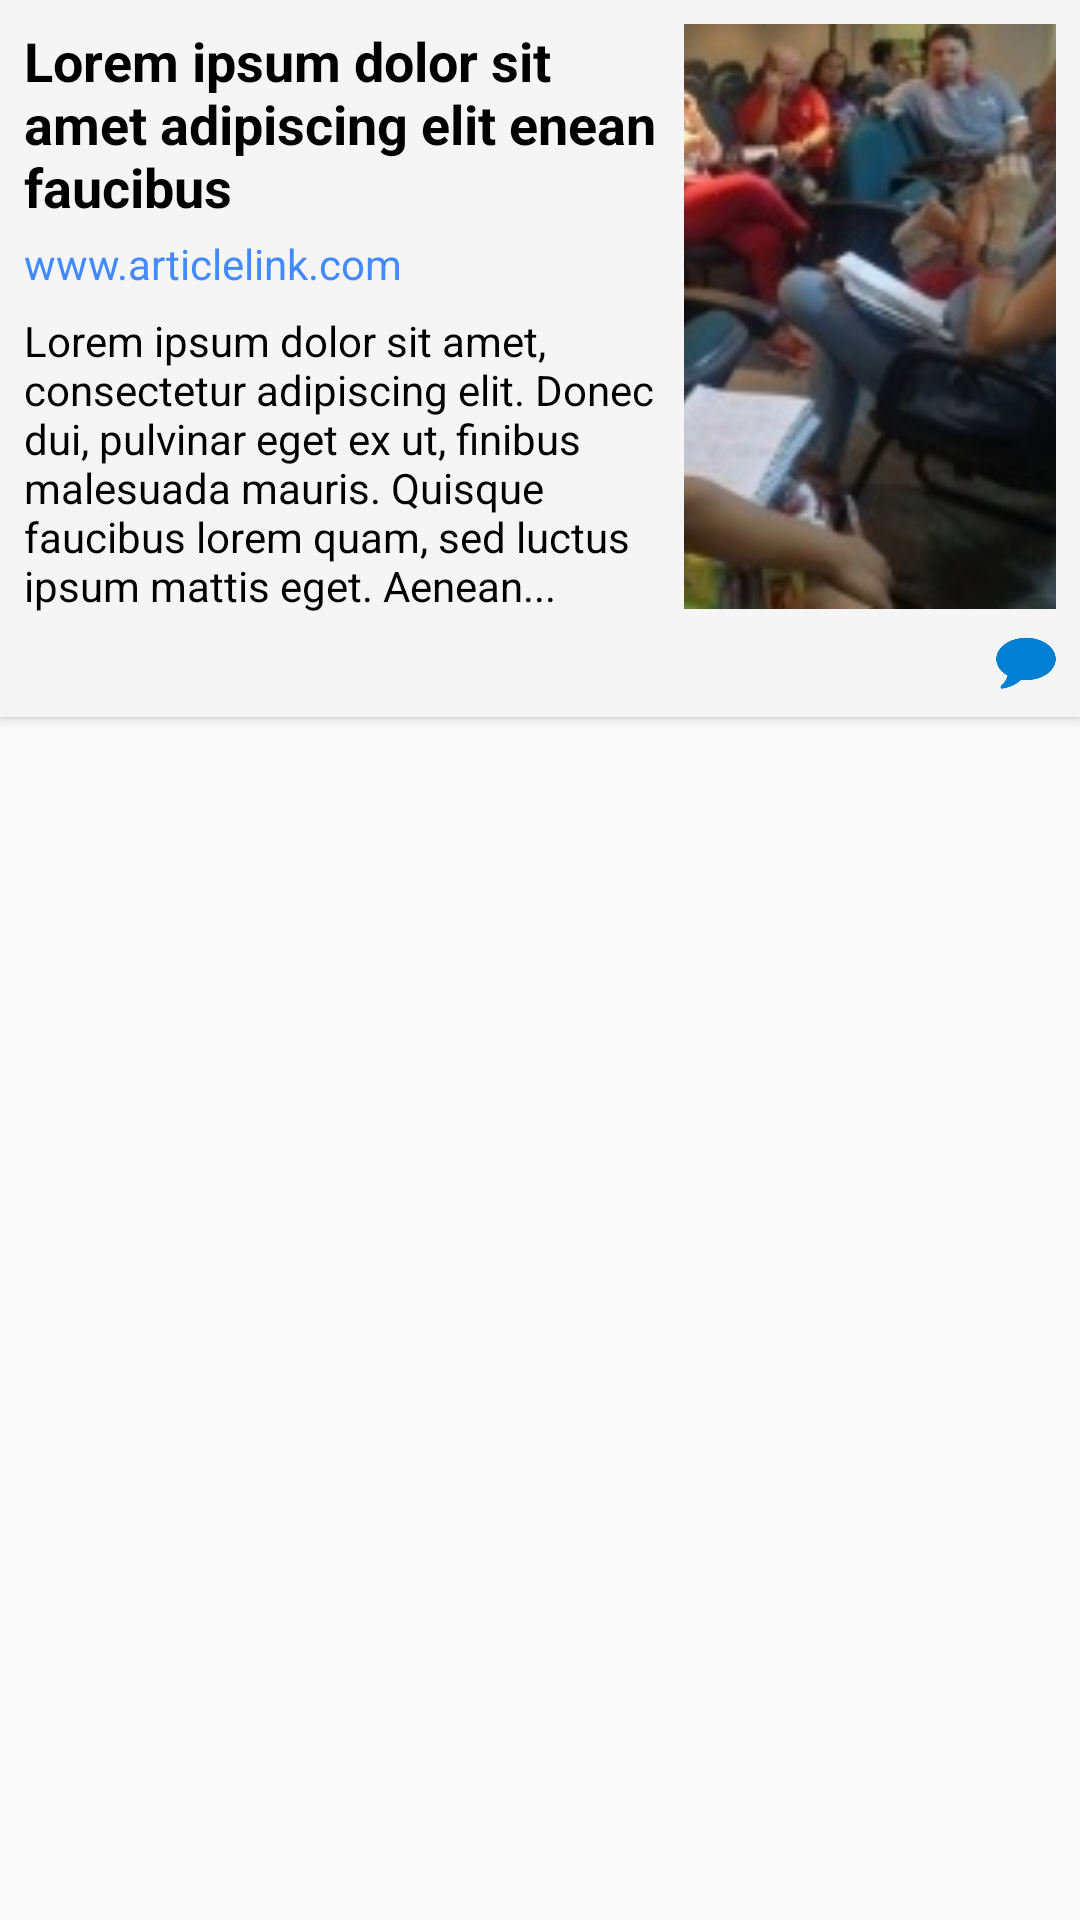

Screen size 1080*1920. Icon name, then its box in pixels as (x1, y1, x2, y2):
comment: (996, 638, 1056, 689)
